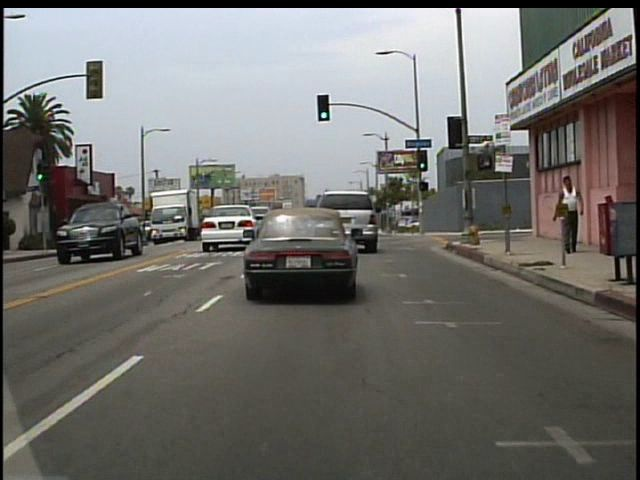person: (555, 171, 585, 256)
